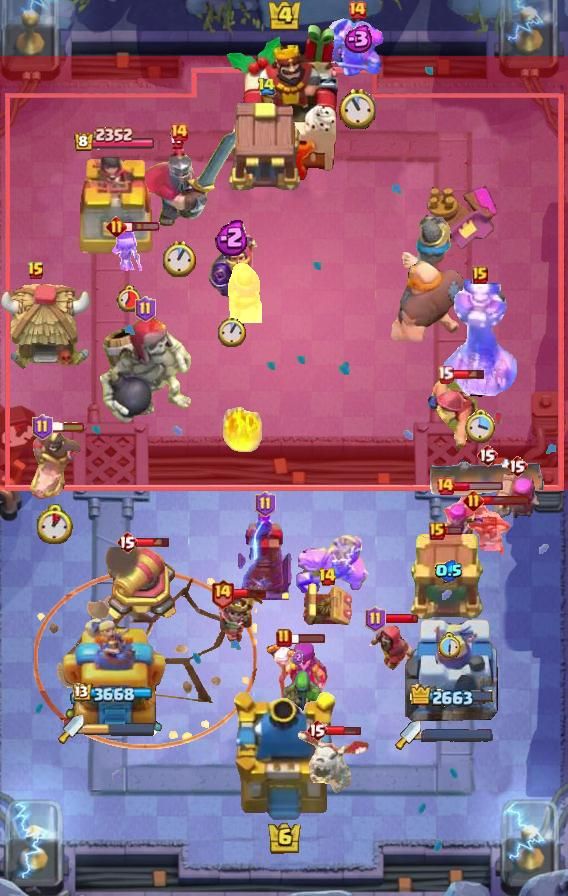axe: (265, 639, 329, 705)
balloon: (389, 260, 469, 348)
bar: (61, 615, 166, 731), (405, 611, 501, 731)
bomb: (226, 99, 306, 193), (410, 533, 488, 621)
bomb-tower: (225, 259, 262, 323)
bomber-evolution: (213, 590, 265, 646)
bowler: (364, 624, 416, 672)
electro-dragon: (441, 275, 519, 403)
electro-giant: (95, 313, 195, 425)
electro-spirit: (215, 218, 250, 256), (340, 25, 374, 53), (435, 560, 463, 582), (293, 651, 304, 665)
elixir: (340, 88, 377, 129), (37, 504, 73, 544), (163, 239, 196, 276), (464, 409, 495, 445), (218, 317, 246, 348), (116, 284, 143, 312), (437, 632, 461, 659)
elixir-golem-big: (316, 15, 398, 79)
emote: (452, 481, 503, 492), (481, 495, 531, 506), (123, 221, 161, 233), (50, 421, 86, 433), (383, 613, 419, 625), (290, 632, 326, 644), (451, 368, 486, 380), (137, 536, 172, 548), (232, 588, 268, 599), (326, 724, 362, 735), (445, 525, 464, 536)
evolution-symbol: (432, 490, 487, 556)
fireball: (424, 373, 486, 457)
firecracker: (400, 214, 452, 274)
firecracker-evolution: (208, 233, 257, 299)
freeze: (293, 531, 373, 595), (27, 430, 83, 500)
giant-snowball: (282, 668, 322, 726)
goblin: (111, 231, 147, 271)
goblin-brawler: (300, 579, 354, 629)
guard: (34, 570, 257, 749)
ice-spirit-evolution-symbol: (235, 506, 295, 602)
king-tower: (224, 23, 344, 181), (227, 692, 341, 826)
king-tower-bar: (84, 722, 156, 736), (421, 728, 493, 742)
mini-pekka: (293, 729, 371, 797)
minion: (426, 457, 548, 501)
prince: (0, 282, 94, 372)
queen-tower: (71, 154, 157, 256)
royal-recruit: (103, 547, 181, 623)
selected: (410, 684, 496, 710), (72, 127, 155, 153), (73, 684, 155, 705)
skeleton-dragon: (465, 498, 513, 556)
text: (209, 578, 234, 609), (135, 296, 156, 322), (32, 414, 53, 440), (256, 491, 277, 517), (366, 606, 387, 632), (476, 443, 498, 467), (506, 454, 528, 478), (116, 530, 138, 554), (306, 718, 328, 742), (105, 215, 126, 237), (463, 490, 485, 511), (347, 0, 367, 20), (169, 122, 189, 142), (435, 476, 455, 496), (319, 567, 338, 587), (256, 77, 276, 95), (27, 261, 45, 281), (437, 365, 454, 384), (276, 628, 292, 648), (472, 266, 488, 284), (429, 522, 445, 540)
tombstone: (493, 468, 541, 524)
valkyrie: (219, 403, 267, 455)
wall-breaker-evolution: (120, 131, 238, 229)
